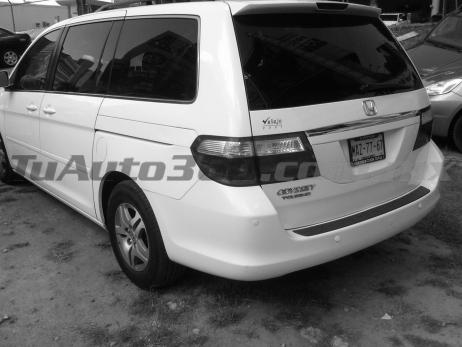car: (1, 1, 447, 293)
